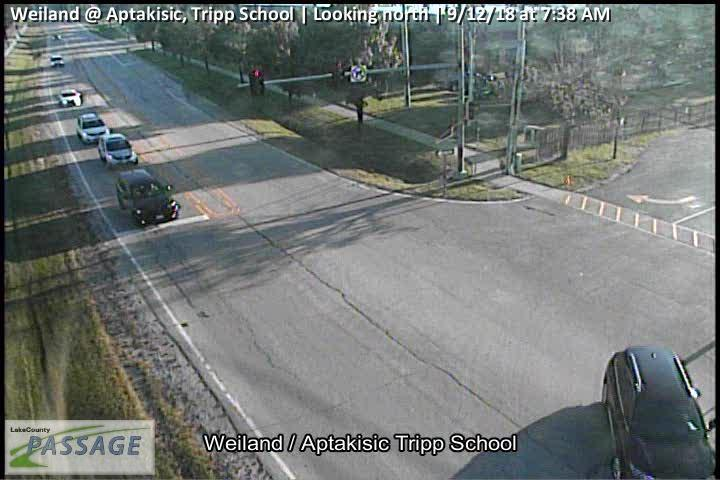SUV: (599, 344, 718, 480), (114, 166, 182, 227), (96, 132, 139, 170), (48, 54, 65, 68)
Sedan: (74, 111, 110, 146), (57, 87, 83, 109)
